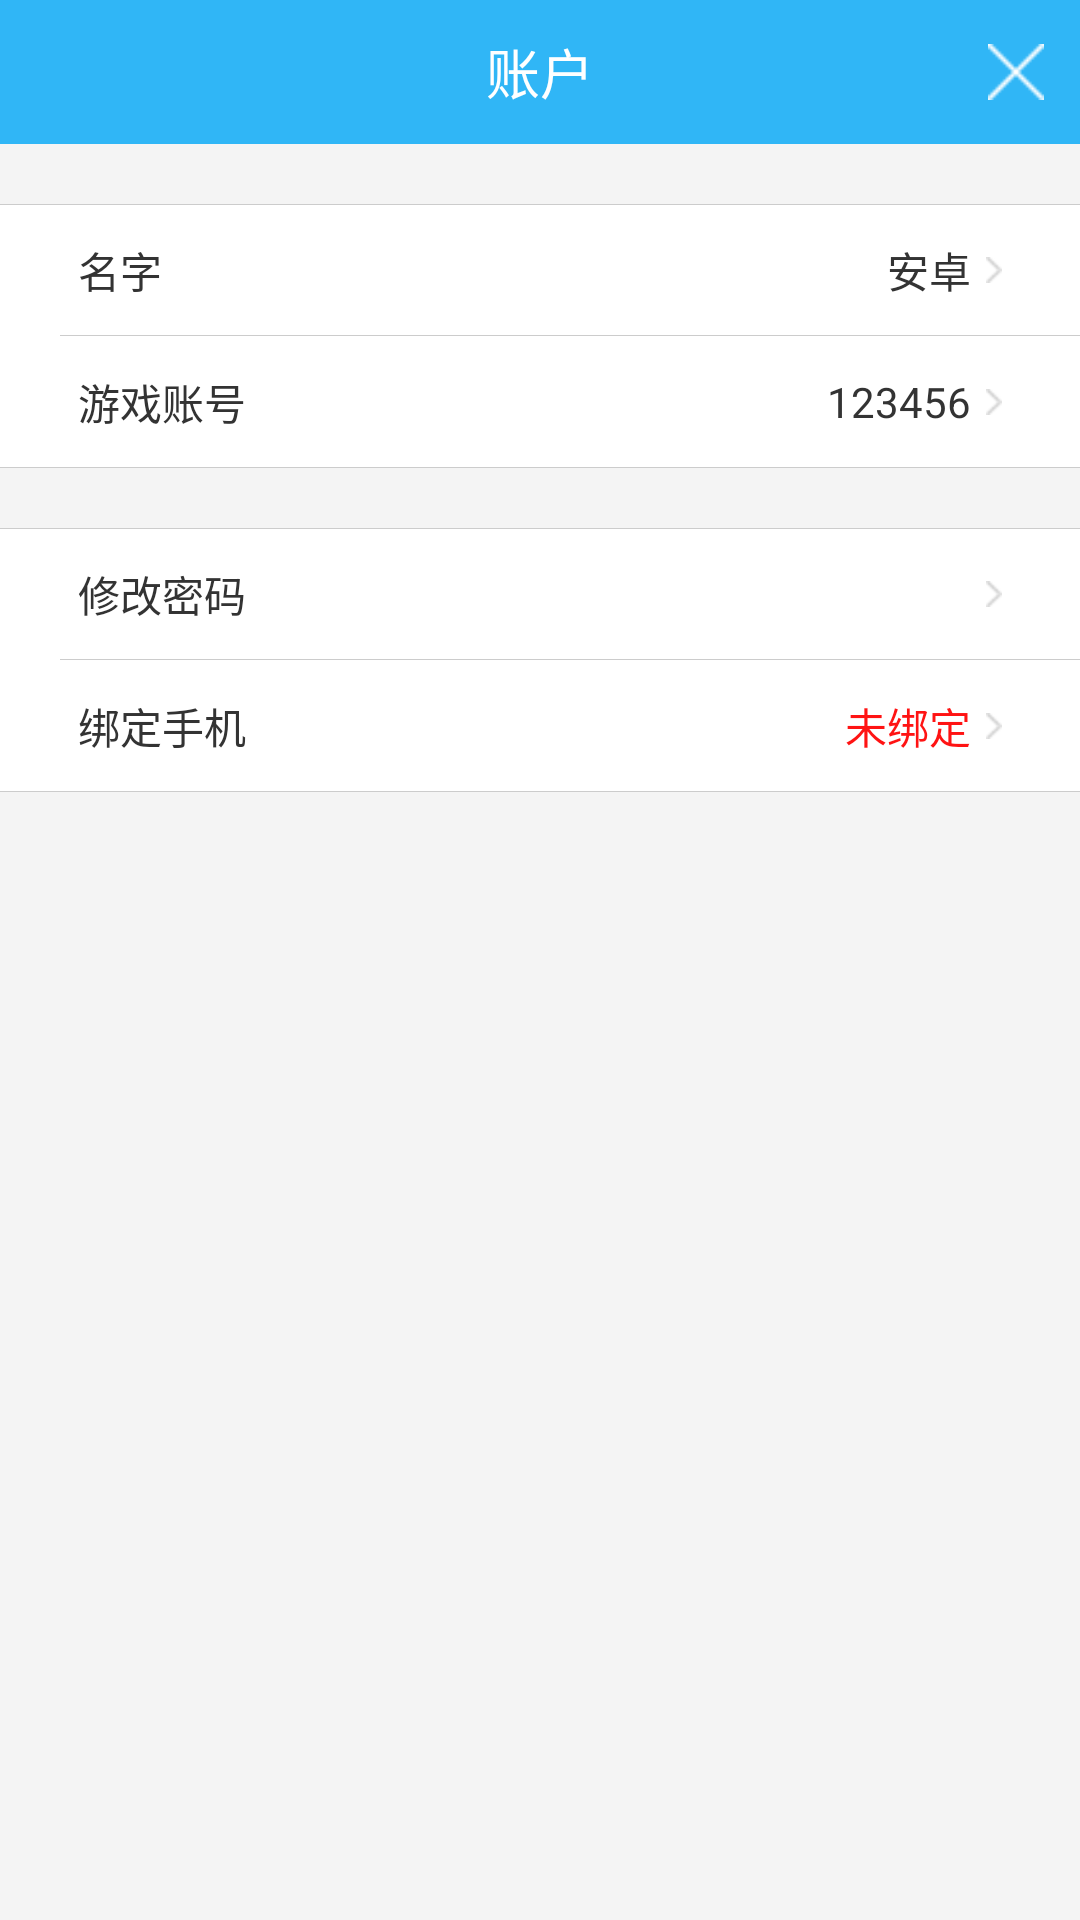

Named icons in this screenshot (1080w x 1920h) and their bounding boxes, (x1, y1, x2, y2):
gamesdk close: (988, 44, 1044, 100)
